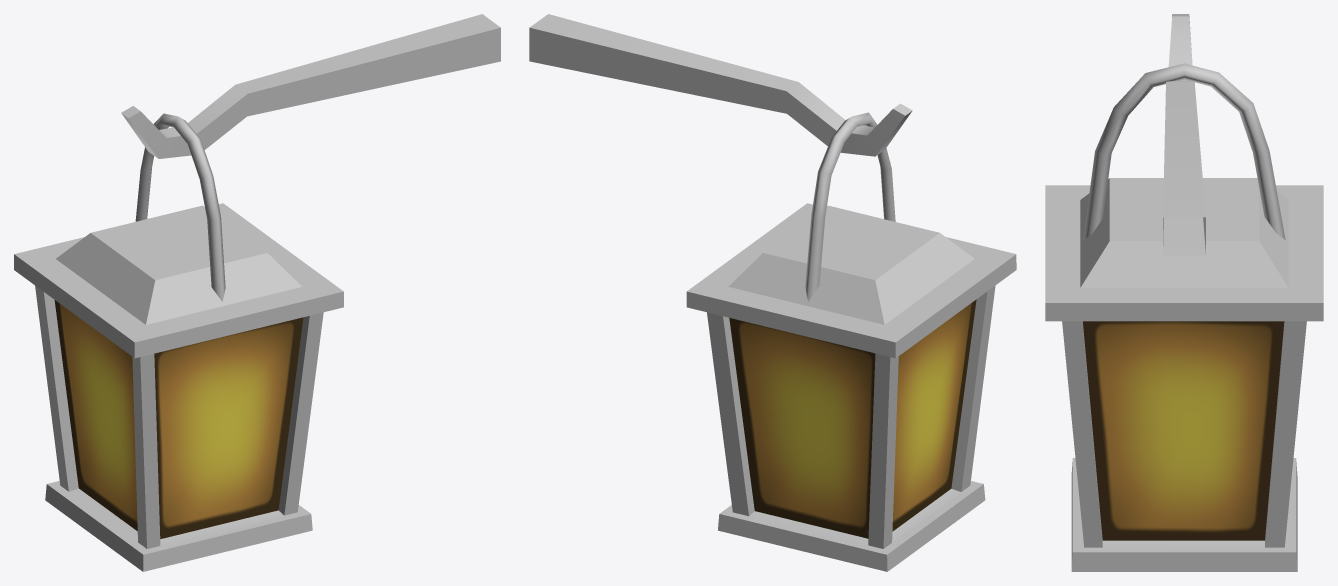
File: SM_Lantern_03_D.fbx
3 renders of one model, left to right at view 1: azimuth 30°, elevation 25°; view 2: azimuth 150°, elevation 25°; view 3: azimuth 270°, elevation 25°, orthographic. The views are drawn at different scales.
Visible parts, largest first — view 1: SM_Lantern_03_B_Mesh; view 2: SM_Lantern_03_B_Mesh; view 3: SM_Lantern_03_B_Mesh.
Boxes of the visible parts, x1,y1,x2,y2 form: SM_Lantern_03_B_Mesh: [14, 14, 500, 571]; SM_Lantern_03_B_Mesh: [529, 14, 1016, 571]; SM_Lantern_03_B_Mesh: [1045, 14, 1323, 571].
Size of what is drawn, in the model's own units: 48 by 46.03 by 24.04.
